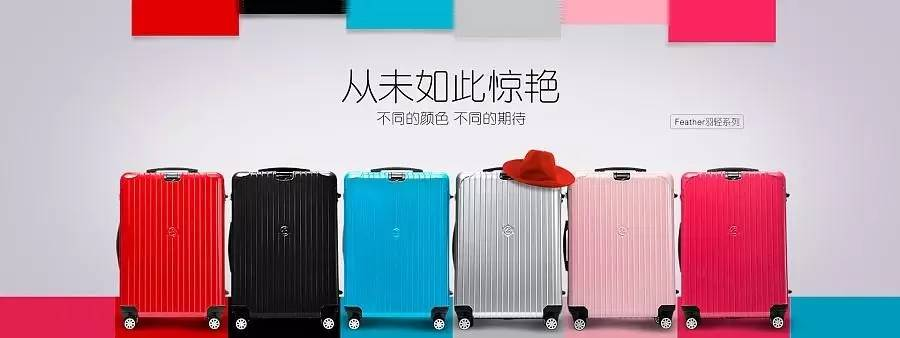luggage: (680, 164, 792, 331), (115, 165, 227, 331), (229, 164, 341, 330), (340, 165, 452, 331), (566, 168, 678, 329)
